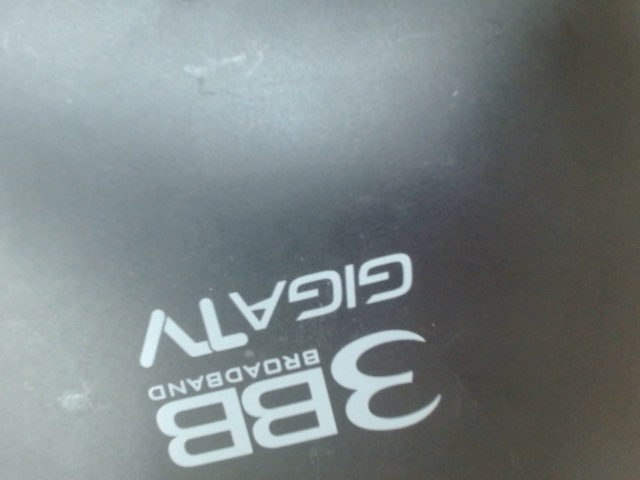AG_3BB: (118, 246, 448, 470)
